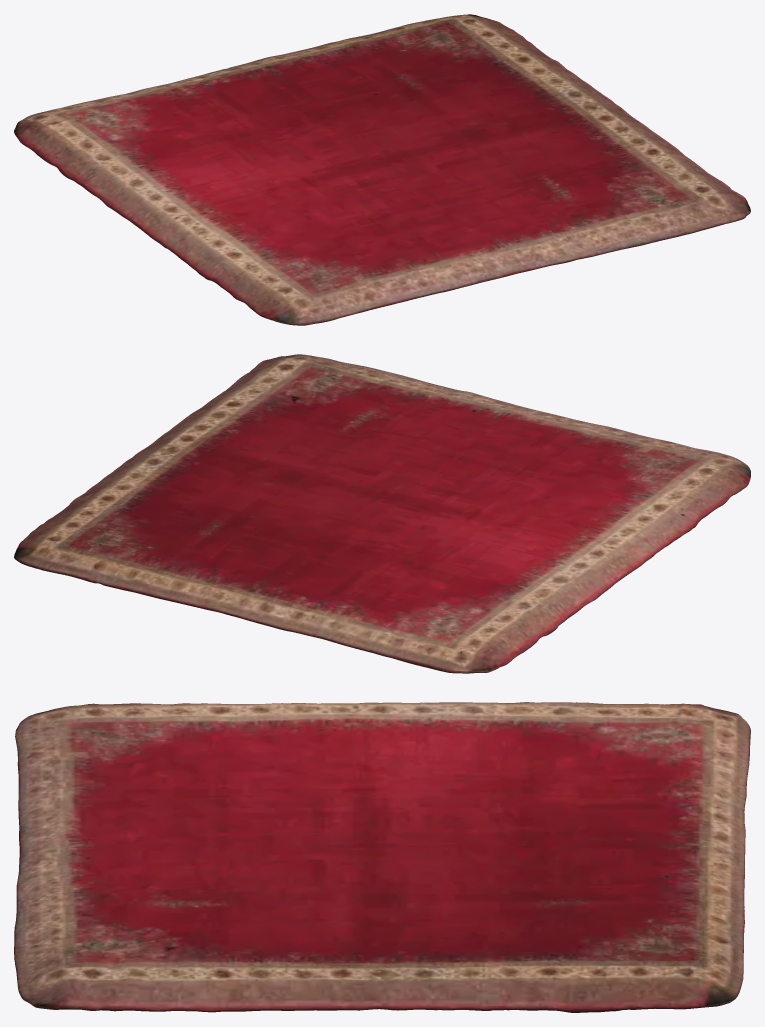
Rendered from rug1.glb.
3 renders of one model, top to bottom at view 1: azimuth 30°, elevation 25°; view 2: azimuth 150°, elevation 25°; view 3: azimuth 270°, elevation 25°, orthographic. The views are drawn at different scales.
Bounding box in the file's own units: 1.95 × 0.0672 × 1.99.
1 material, 1 textured.
